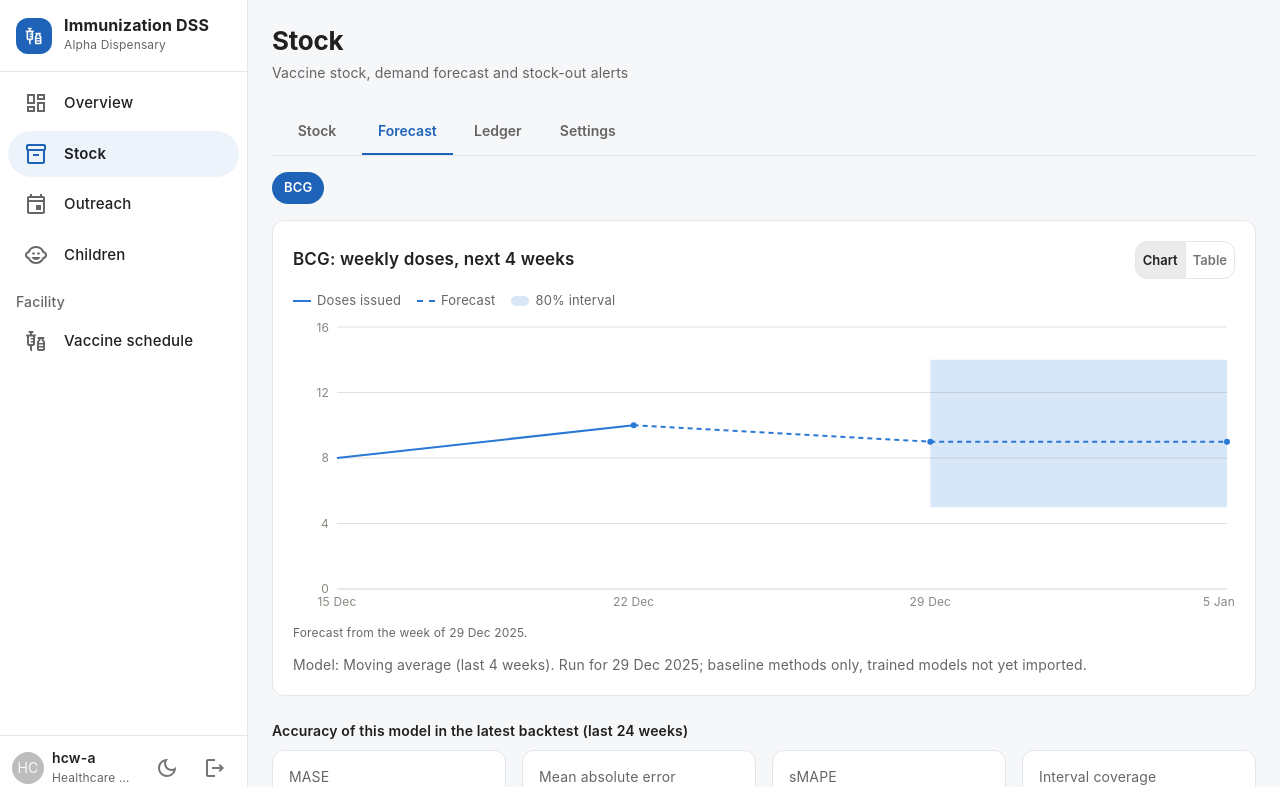
the forecast has a table alternative with the 80% interval, the model and its accuracy
Expected: the picture named "Weekly doses of BCG" is shown, [293, 291, 1235, 643]
Expected: the text "Moving average (last 4 weeks)" is shown, [343, 656, 551, 673]
Click the button "Table" at (1210, 260), box [1185, 241, 1235, 280]
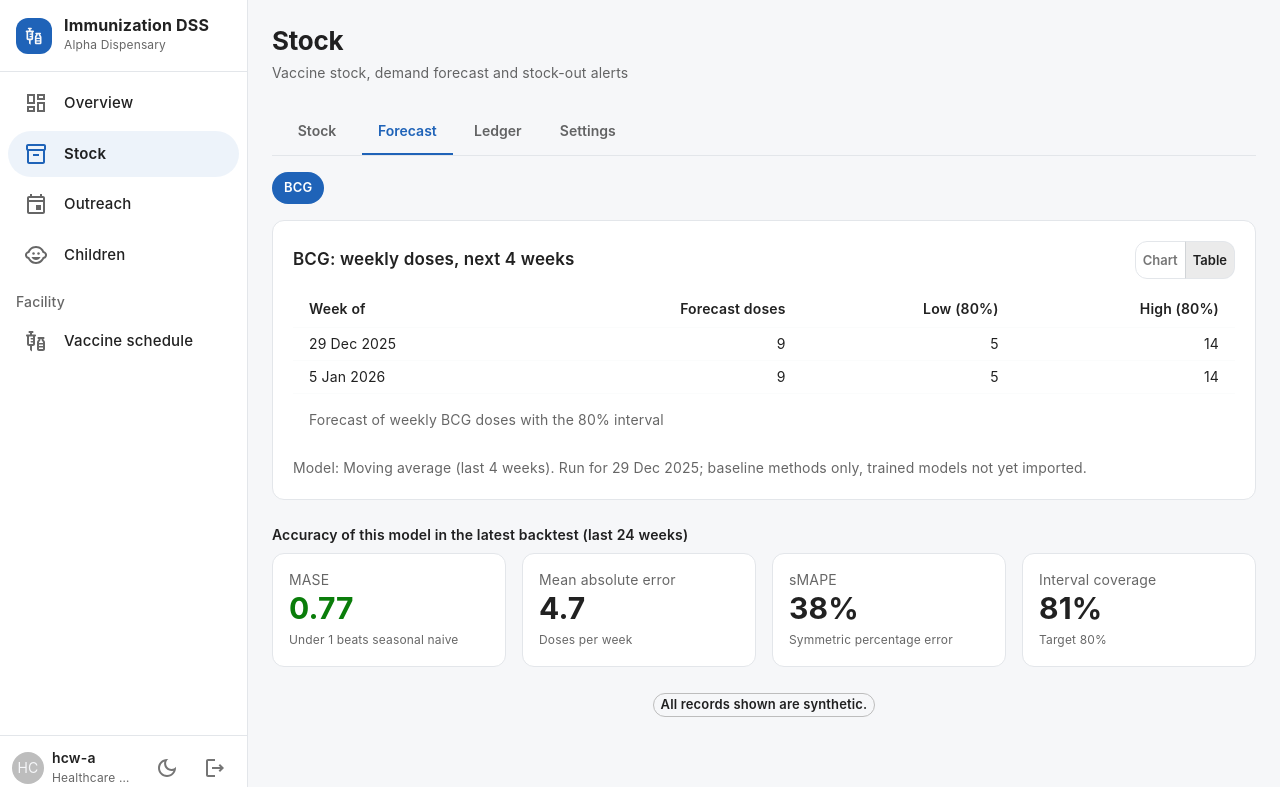
Expected: the column heading "High (80%)" is shown, [1015, 291, 1235, 328]
Expected: the text "14" is shown 2 times, [1015, 328, 1235, 361]; [1015, 361, 1235, 394]
